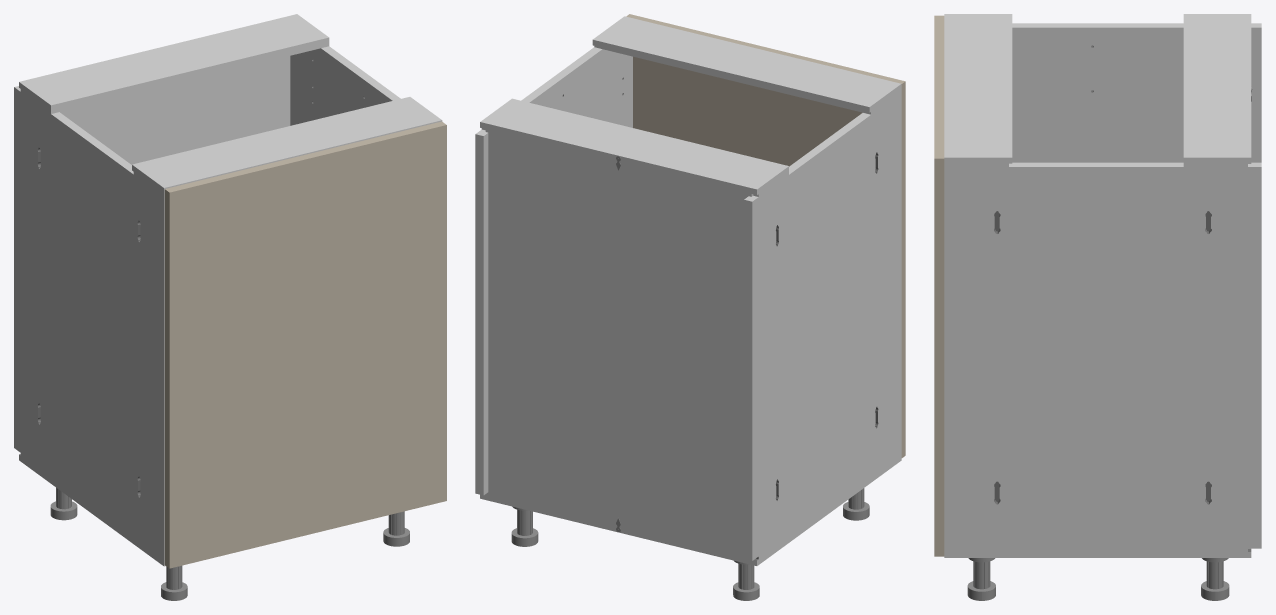
File: BaseUnit_1D_600-1770764456681.glb
3 renders of one model, left to right at view 1: azimuth 30°, elevation 25°; view 2: azimuth 150°, elevation 25°; view 3: azimuth 270°, elevation 25°, orthographic. The views are drawn at different scales.
Parts seen in each view (by area): view 1: Door, SidePanel_L, BackPanel, TopRib_B, TopRib_F, SidePanel_L001, BasePanel, Leg_FL, Leg_FR, Leg_BL; view 2: BackPanel, SidePanel_L, Door, TopRib_F, TopRib_B, SidePanel_L001, BasePanel, Leg_BL, Leg_BR, Leg_FL; view 3: SidePanel_L001, SidePanel_L, TopRib_F, TopRib_B, Door, BasePanel, Leg_BR, Leg_FR.
Part boxes in pixels (bbox=[...]): Door: bbox=[164, 121, 446, 568]; SidePanel_L: bbox=[14, 86, 164, 557]; BackPanel: bbox=[60, 56, 290, 164]; TopRib_B: bbox=[19, 14, 329, 113]; TopRib_F: bbox=[132, 97, 442, 196]; SidePanel_L001: bbox=[290, 46, 400, 125]; BasePanel: bbox=[19, 453, 165, 566]; Leg_FL: bbox=[161, 565, 187, 600]; Leg_FR: bbox=[383, 511, 409, 546]; Leg_BL: bbox=[50, 487, 77, 520]; BackPanel: bbox=[485, 129, 753, 557]; SidePanel_L: bbox=[744, 92, 901, 560]; Door: bbox=[626, 14, 905, 457]; TopRib_F: bbox=[592, 16, 901, 114]; TopRib_B: bbox=[480, 98, 788, 196]; SidePanel_L001: bbox=[475, 47, 632, 495]; BasePanel: bbox=[480, 452, 901, 565]; Leg_BL: bbox=[733, 563, 759, 600]; Leg_BR: bbox=[511, 509, 538, 546]; Leg_FL: bbox=[843, 488, 869, 520]; SidePanel_L001: bbox=[944, 162, 1261, 548]; SidePanel_L: bbox=[1012, 23, 1261, 162]; TopRib_F: bbox=[944, 14, 1012, 166]; TopRib_B: bbox=[1183, 14, 1251, 166]; Door: bbox=[934, 15, 944, 556]; BasePanel: bbox=[944, 548, 1251, 562]; Leg_BR: bbox=[1201, 561, 1229, 600]; Leg_FR: bbox=[967, 561, 995, 600].
Bounding box in the file's own units: 0.6 × 0.88 × 0.5779.
